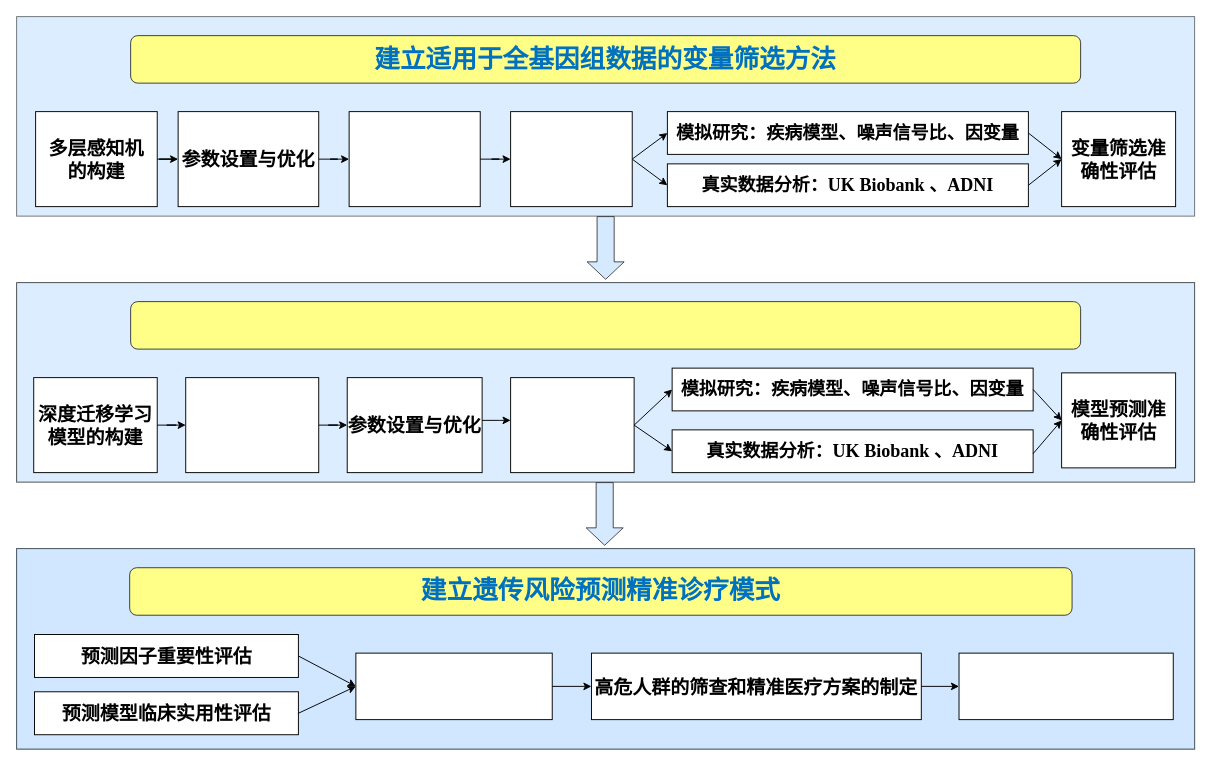
Some shapes in this 1211 by 766 pixel diagram are drawn without their labels. Each missing label, with the centre of its shape:
"变量筛选准确性的评估指标" goes at pixel 571 159.
"变量重要性评分的估算和理论分布推导" goes at pixel 414 159.
"建立将变量筛选和风险预测有机融合的深度迁移学习模型" goes at pixel 605 325.
"新模式的临床应用可行性" goes at pixel 1065 686.
"根据不同疾病模型设置隐藏层结构" goes at pixel 252 425.
"模型准确性的评估指标" goes at pixel 572 425.
"预测模型的优化决策" goes at pixel 453 686.
